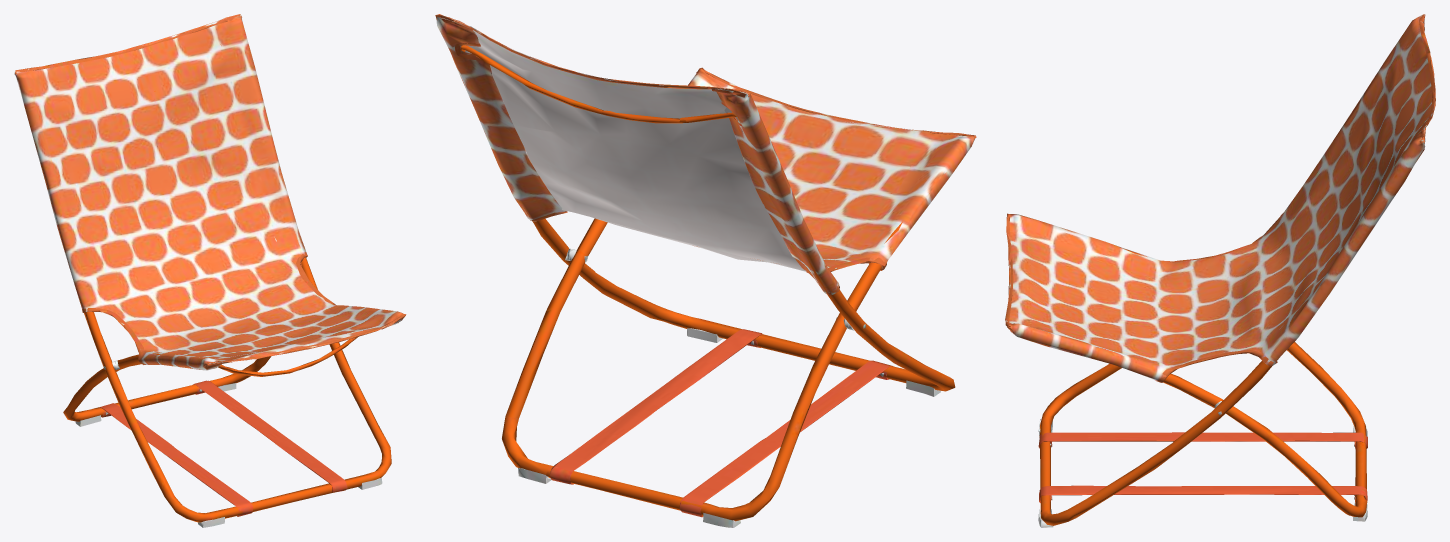
Rendered from 05 - STRANDÖN Beach chair - bright orange.glb.
3 views of the same model, side by side, from view 1: azimuth 30°, elevation 25°; view 2: azimuth 150°, elevation 25°; view 3: azimuth 270°, elevation 25° (orthographic). The views are drawn at different scales.
Parts seen in each view (by area): view 1: ASY_ART_30600454_S01_NV01; view 2: ASY_ART_30600454_S01_NV01; view 3: ASY_ART_30600454_S01_NV01.
Boxes of the visible parts, box(x1,y1,x2,y2) form: ASY_ART_30600454_S01_NV01: box(14, 14, 406, 527); ASY_ART_30600454_S01_NV01: box(435, 14, 976, 527); ASY_ART_30600454_S01_NV01: box(1005, 14, 1435, 527).
Bounding box in the file's own units: 0.5324 × 0.7732 × 0.7505.
1 material, 1 textured.
